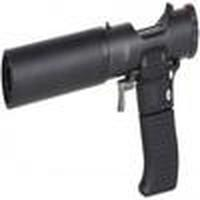gun: (1, 5, 200, 199)
